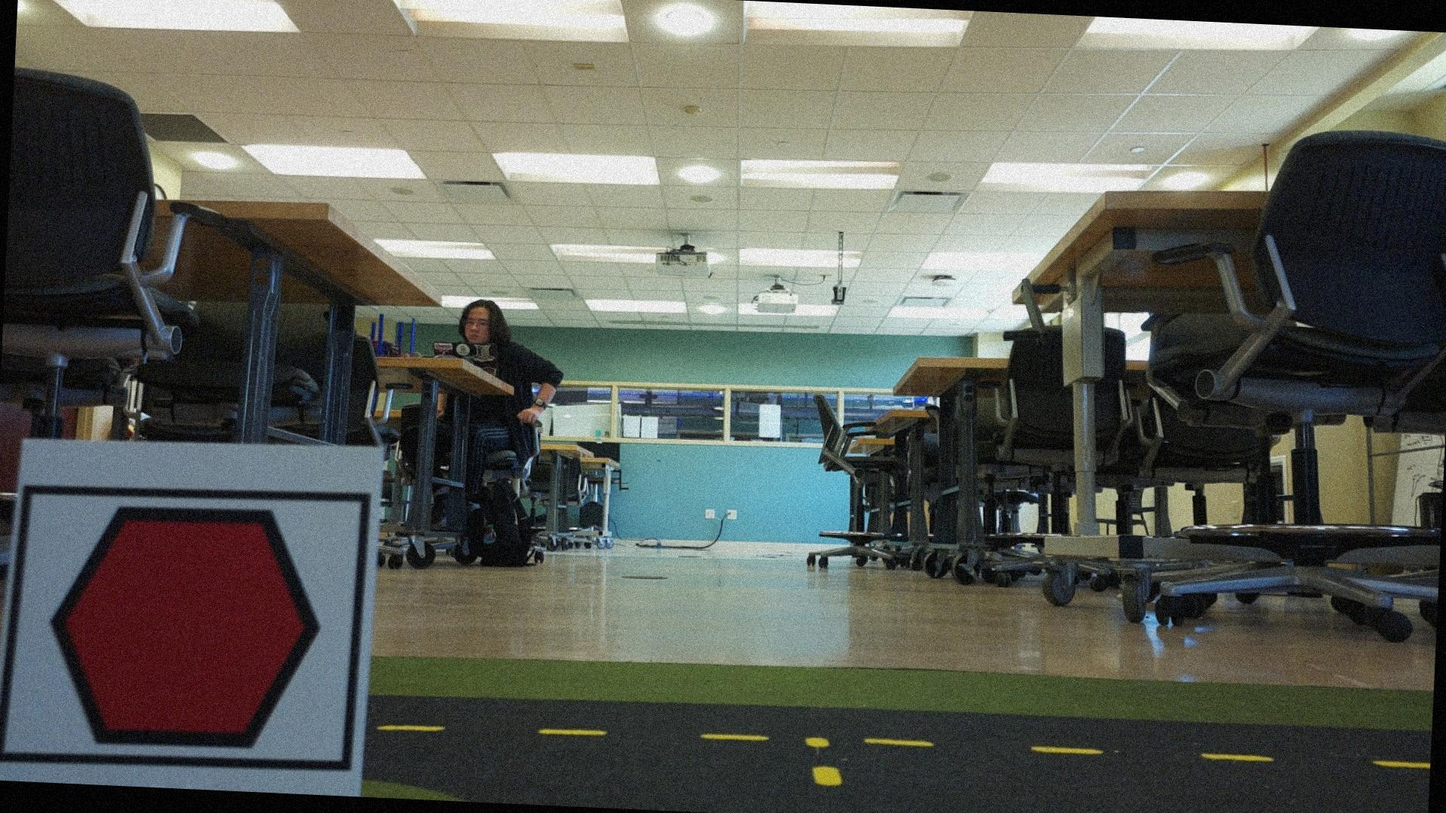stop: (15, 486, 369, 772)
yellowline: (382, 706, 1430, 778), (798, 735, 852, 792)
